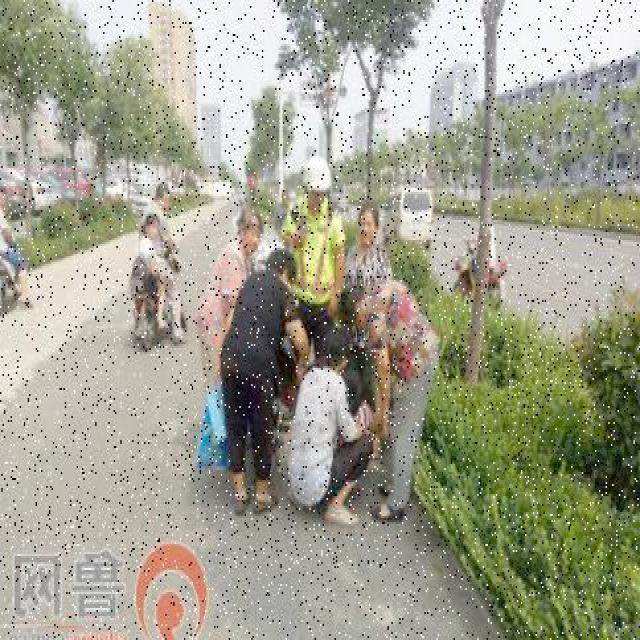fall: (283, 330, 379, 522)
